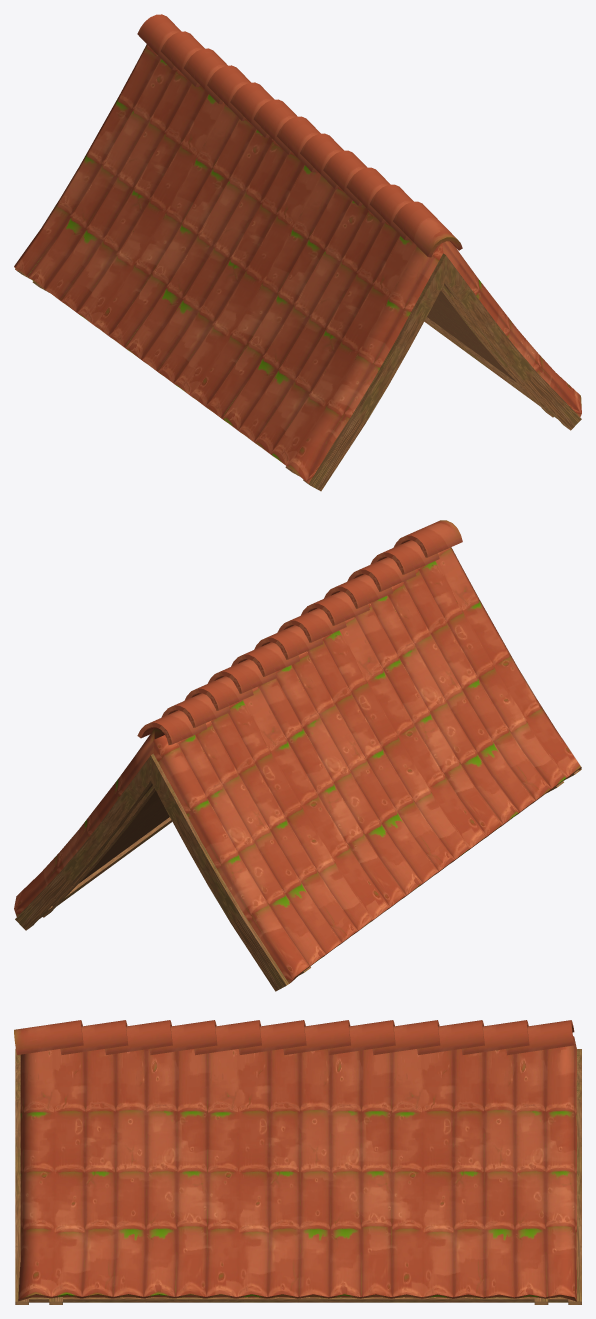
File: Roof_RoundTiles_4x8.gltf
The picture shows the model from 3 angles, top to bottom: view 1: azimuth 30°, elevation 25°; view 2: azimuth 150°, elevation 25°; view 3: azimuth 270°, elevation 25°; orthographic projection. The views are drawn at different scales.
Parts seen in each view (by area): view 1: Roof_RoundTiles_4x8; view 2: Roof_RoundTiles_4x8; view 3: Roof_RoundTiles_4x8.
Part boxes in pixels (x1=…): Roof_RoundTiles_4x8: x1=14, y1=14, x2=581, y2=491; Roof_RoundTiles_4x8: x1=14, y1=520, x2=581, y2=991; Roof_RoundTiles_4x8: x1=14, y1=1020, x2=581, y2=1304.
Bounding box in the file's own units: 5.51 × 4.23 × 9.68.
2 materials, 2 textured.
